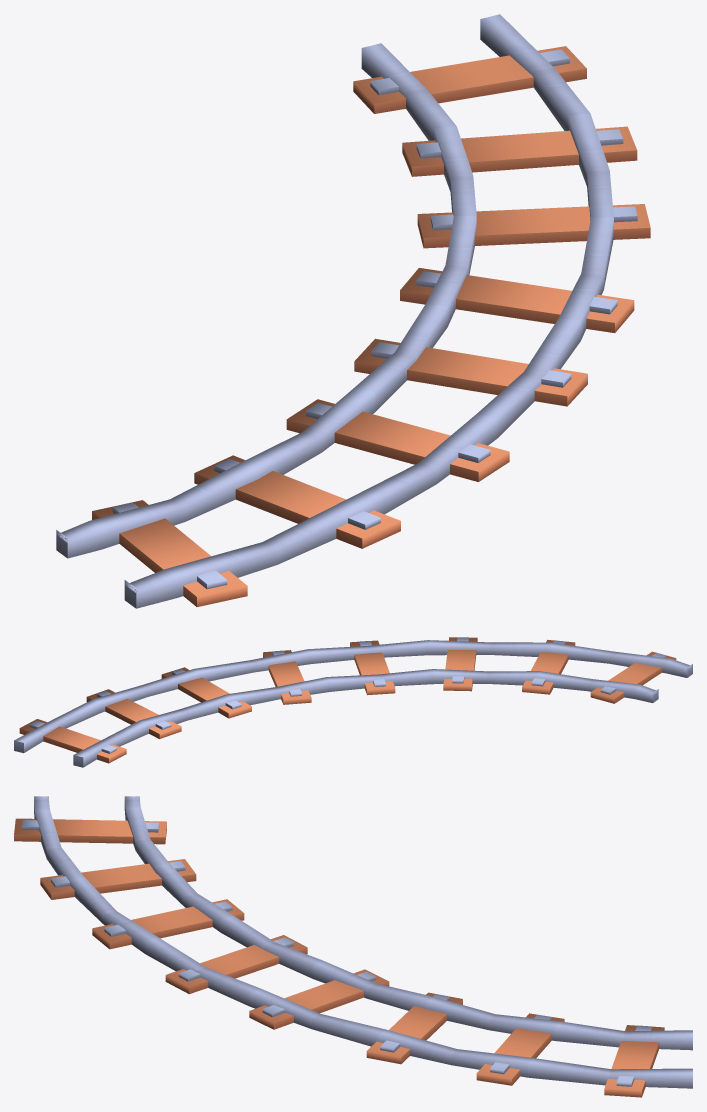
File: kenney-train-railroad-damaged-corner-large.glb
The picture shows the model from 3 angles, top to bottom: view 1: azimuth 30°, elevation 25°; view 2: azimuth 150°, elevation 25°; view 3: azimuth 270°, elevation 25°; orthographic projection. The views are drawn at different scales.
Visible parts, largest first — view 1: railroad-damaged-corner-large; view 2: railroad-damaged-corner-large; view 3: railroad-damaged-corner-large.
Part boxes in pixels (x1,y1,x2,y2): railroad-damaged-corner-large: (56,14,650,608); railroad-damaged-corner-large: (14,637,692,767); railroad-damaged-corner-large: (14,796,692,1097).
Size of the model in its own units: 4.49 by 0.0997 by 4.48.
Materials: 1 (1 with a texture image).
